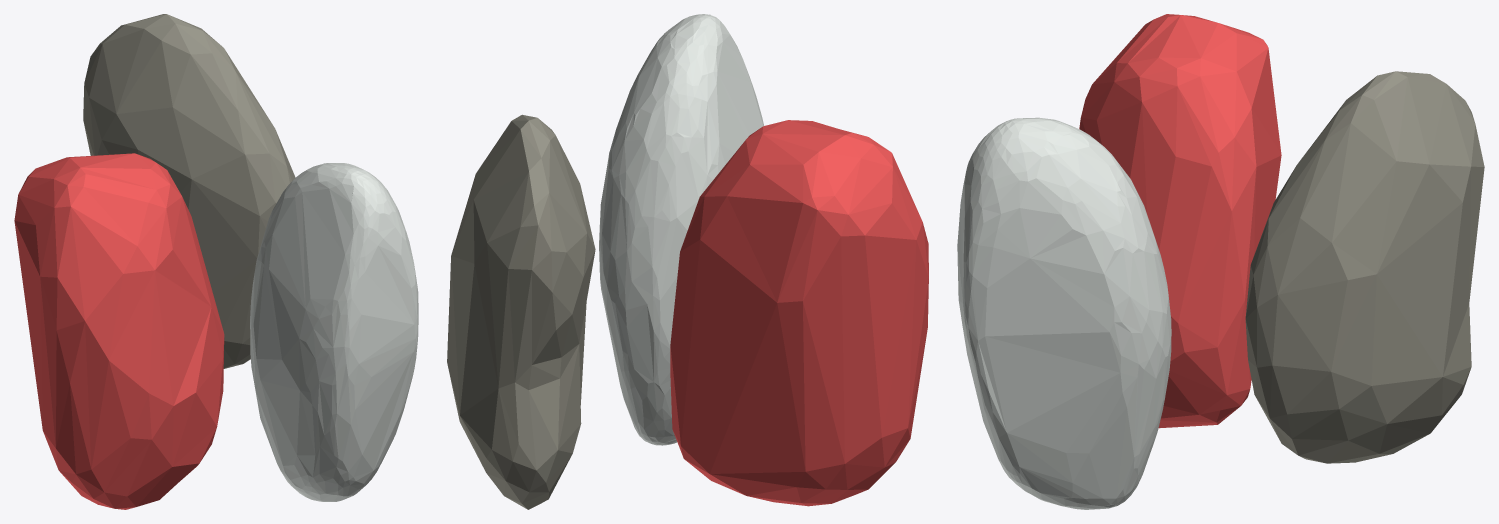
The model's file is pedras.gltf.
The picture shows the model from 3 angles, left to right: view 1: azimuth 30°, elevation 25°; view 2: azimuth 150°, elevation 25°; view 3: azimuth 270°, elevation 25°; orthographic projection. The views are drawn at different scales.
Parts seen in each view (by area): view 1: Head.001, Ico_Sphere.001, Ico_Sphere.000; view 2: Head.001, Ico_Sphere.000, Ico_Sphere.001; view 3: Ico_Sphere.000, Ico_Sphere.001, Head.001.
Part boxes in pixels (x1=…): Head.001: x1=14, y1=153, x2=224, y2=509; Ico_Sphere.001: x1=250, y1=163, x2=418, y2=501; Ico_Sphere.000: x1=83, y1=14, x2=295, y2=368; Head.001: x1=670, y1=120, x2=928, y2=506; Ico_Sphere.000: x1=447, y1=114, x2=595, y2=509; Ico_Sphere.001: x1=599, y1=14, x2=764, y2=445; Ico_Sphere.000: x1=1245, y1=71, x2=1484, y2=463; Ico_Sphere.001: x1=957, y1=117, x2=1171, y2=509; Head.001: x1=1079, y1=14, x2=1281, y2=428.
Size of the model in its own units: 5.64 by 6.34 by 7.06.
